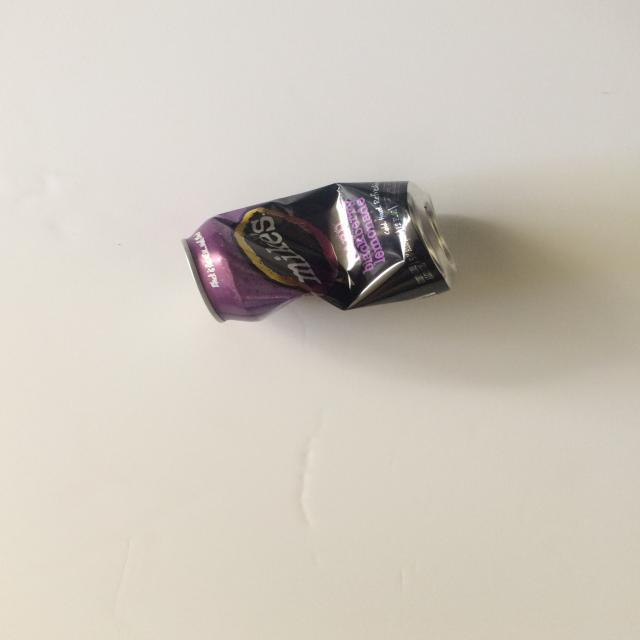metal: (182, 179, 458, 323)
